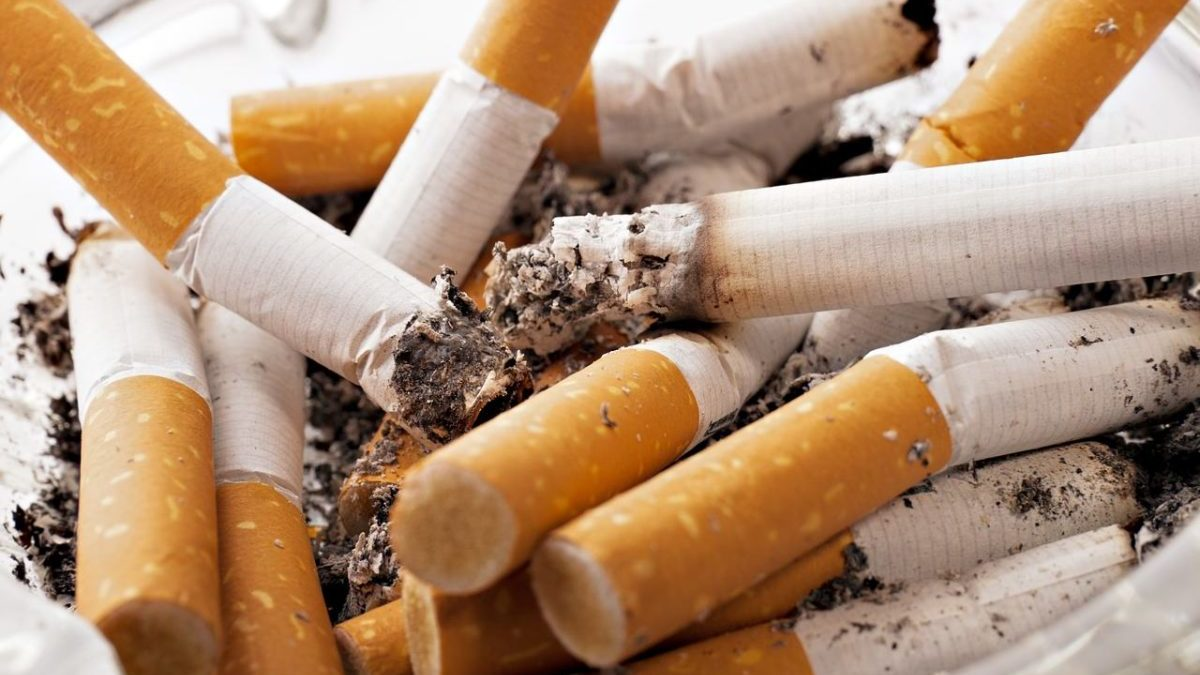trash: (524, 285, 1200, 670), (1, 1, 539, 454), (787, 1, 1192, 412), (218, 1, 951, 215), (482, 126, 1200, 339), (386, 295, 823, 589), (42, 212, 232, 675), (179, 289, 353, 675)
